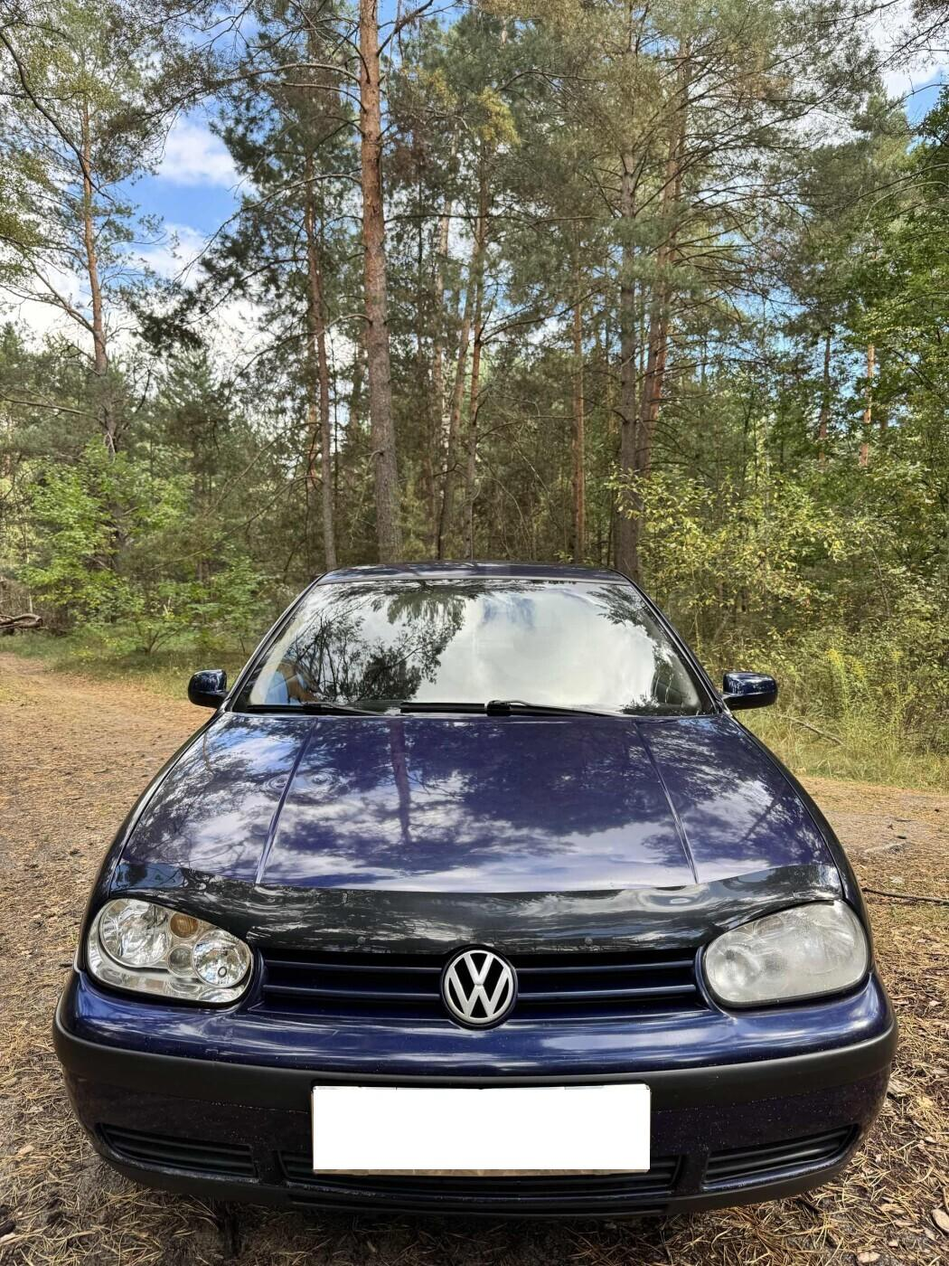Golf_1997-2006: (50, 557, 897, 1210)
